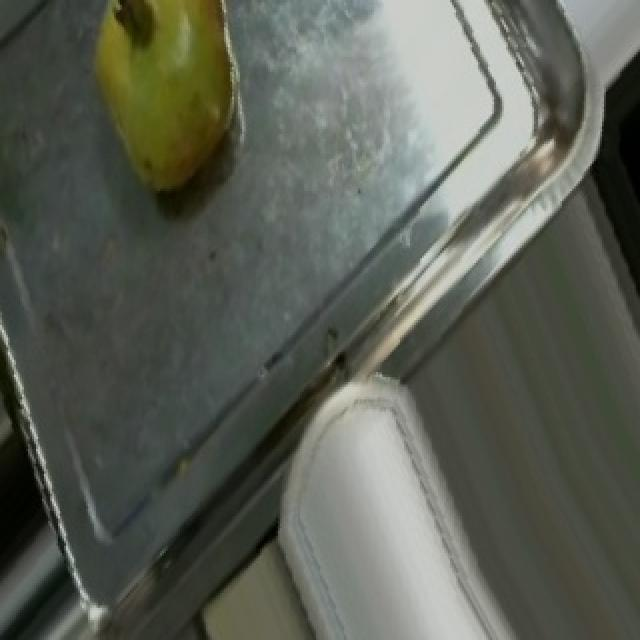fruit: (46, 0, 272, 216)
